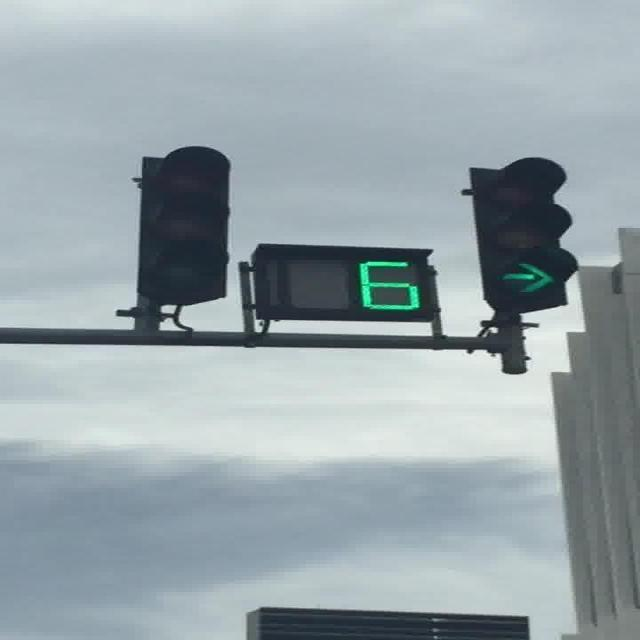green_light: (468, 156, 578, 312)
